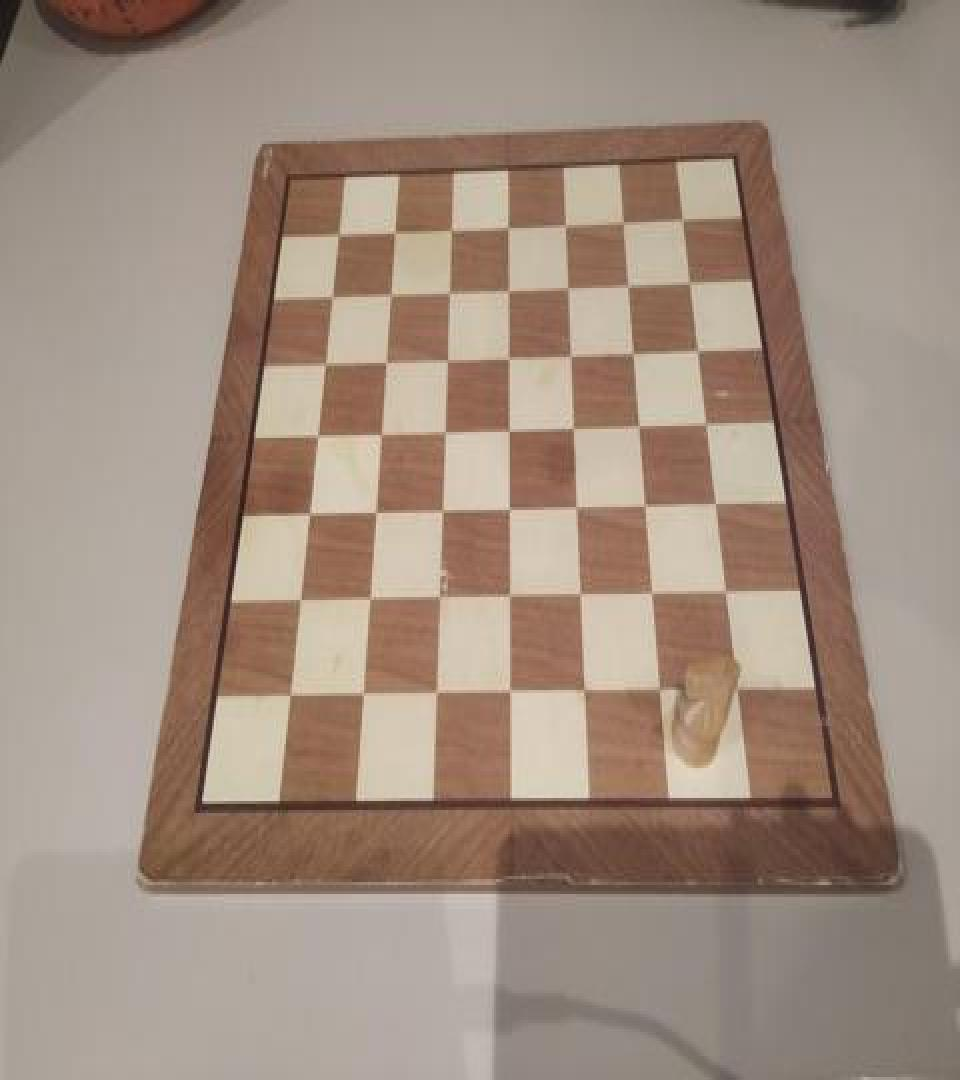xcorner: (301, 499, 321, 530), (283, 684, 303, 714), (431, 681, 451, 711), (505, 681, 525, 711), (580, 680, 600, 710), (656, 678, 676, 708), (732, 676, 752, 706), (363, 585, 383, 615), (433, 585, 453, 615), (504, 584, 524, 614), (576, 582, 596, 612), (720, 579, 740, 609), (368, 498, 388, 528), (435, 496, 455, 526), (503, 495, 523, 525), (571, 494, 591, 524), (640, 492, 660, 522), (709, 489, 729, 519), (309, 418, 329, 448), (373, 417, 393, 447), (437, 416, 457, 446), (502, 414, 522, 444), (568, 412, 588, 442), (633, 410, 653, 440), (699, 408, 719, 438), (316, 345, 336, 375), (378, 344, 398, 374), (439, 342, 459, 372), (502, 340, 522, 370), (564, 338, 584, 368), (627, 336, 647, 366), (690, 334, 710, 364), (323, 278, 343, 308), (382, 276, 402, 306), (441, 274, 461, 304), (501, 272, 521, 302), (561, 270, 581, 300), (621, 268, 641, 298), (682, 266, 702, 296), (329, 216, 349, 246), (386, 213, 406, 243), (443, 212, 463, 242), (500, 208, 520, 238), (558, 207, 578, 237), (616, 206, 636, 236), (674, 202, 694, 232), (357, 683, 377, 712), (292, 587, 312, 616), (648, 581, 668, 610)
